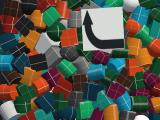Right: (81, 7, 125, 51)
